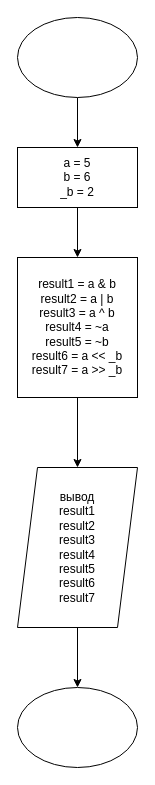
Image size: 155x785. Some labels were removed from this diagram. The shapes that lost their labels are listed below. From the top down, each one's centre as x and y in pixels, then its label:
the point at 77,57: начало
the point at 77,727: конец
